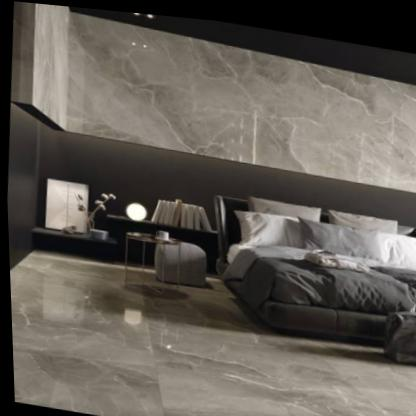Bed: (203, 184, 416, 344)
Ceramic floor: (8, 250, 416, 416)
